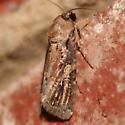army worm adult: (42, 1, 94, 121)
